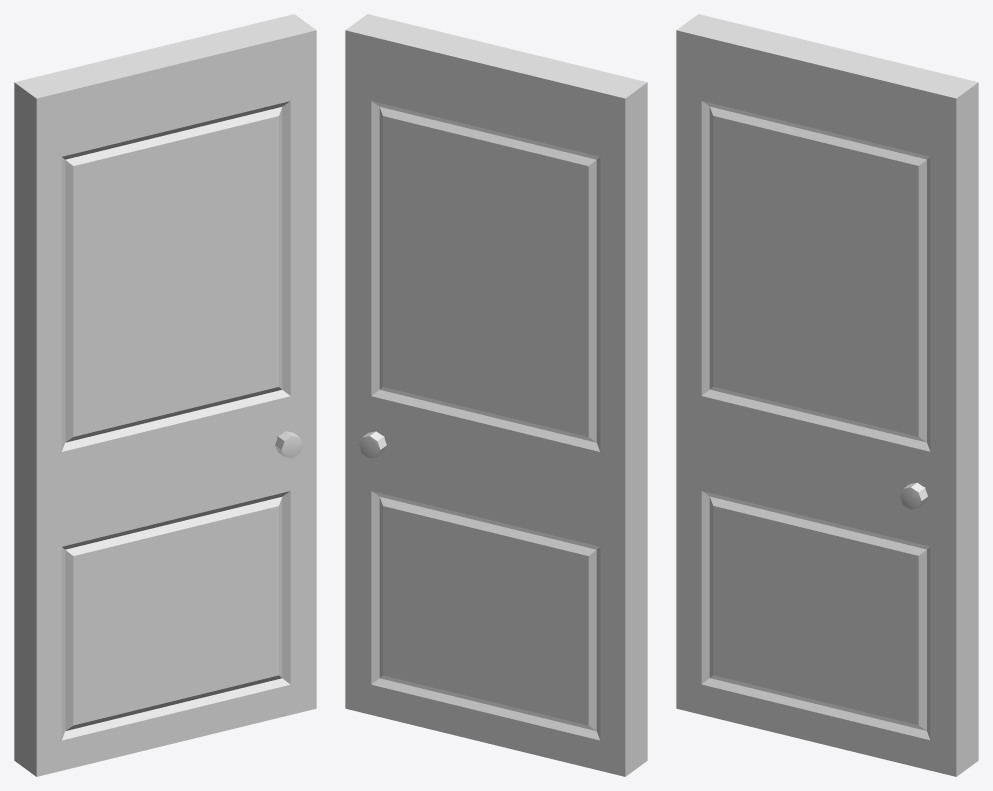
File: door_017.glb
3 views of the same model, side by side, from view 1: azimuth 30°, elevation 25°; view 2: azimuth 150°, elevation 25°; view 3: azimuth 330°, elevation 25° (orthographic).
Parts seen in each view (by area): view 1: door_017; view 2: door_017; view 3: door_017.
Boxes of the visible parts, bbox=[...] form: door_017: bbox=[14, 14, 316, 776]; door_017: bbox=[345, 14, 647, 776]; door_017: bbox=[676, 14, 978, 776].
Size of the model in its own units: 1.05 by 2.42 by 0.2959.
1 material, 1 textured.
